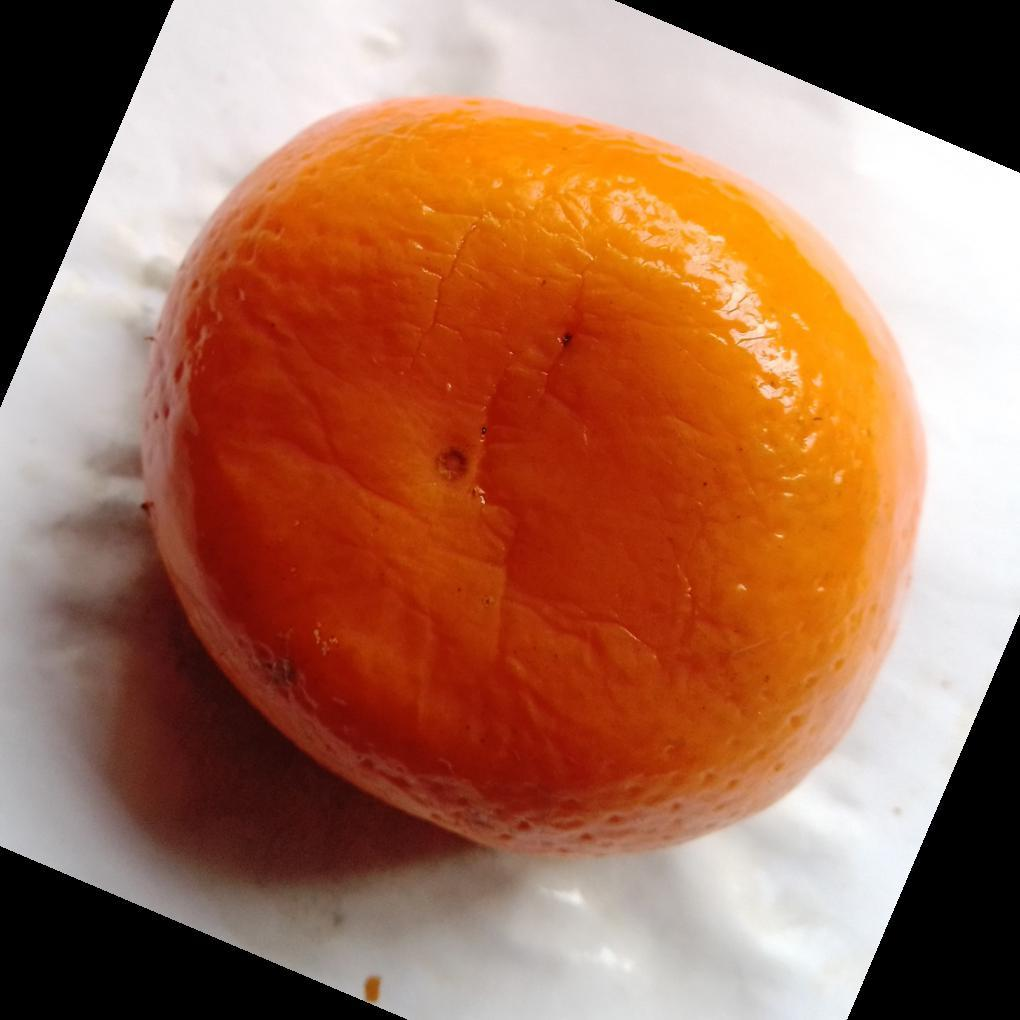FreshOrange: (136, 96, 928, 865)
